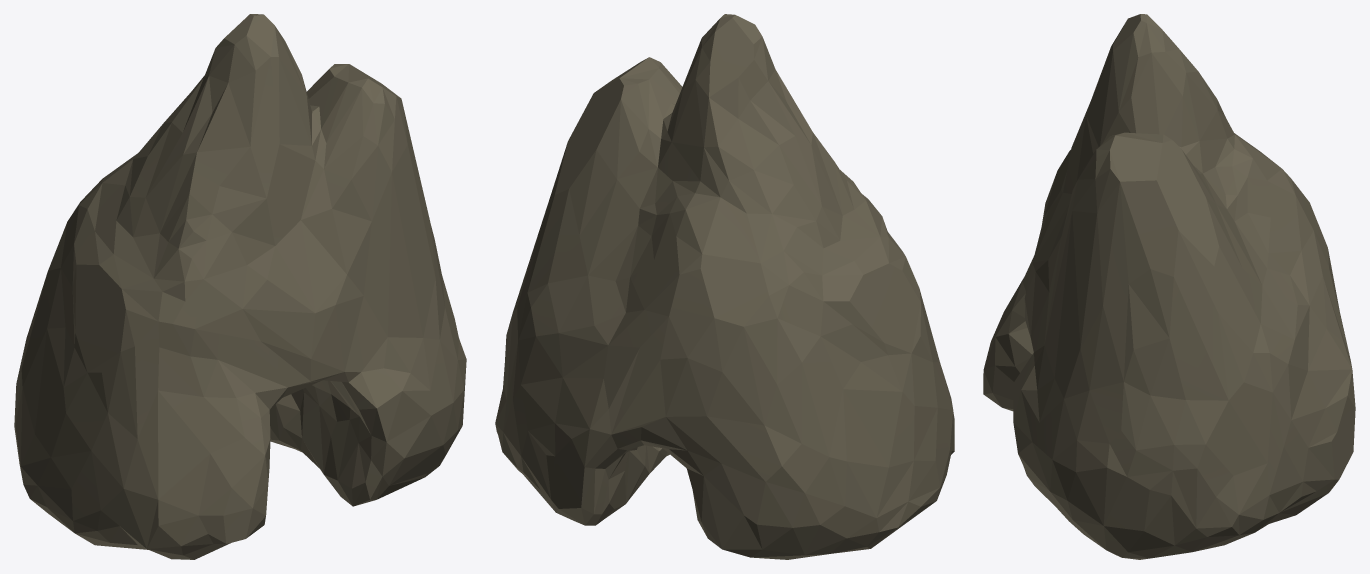
The model's file is Cave_12.fbx.
3 views of the same model, side by side, from view 1: azimuth 30°, elevation 25°; view 2: azimuth 150°, elevation 25°; view 3: azimuth 270°, elevation 25° (orthographic). The views are drawn at different scales.
Parts seen in each view (by area): view 1: Cave_12_LOD0; view 2: Cave_12_LOD0; view 3: Cave_12_LOD0.
Part boxes in pixels (x1,y1,x2,y2): Cave_12_LOD0: (14,14,466,559); Cave_12_LOD0: (495,14,954,559); Cave_12_LOD0: (983,14,1355,559).
Size of what is drawn, in the model's own units: 11.45 by 13.24 by 9.52.
